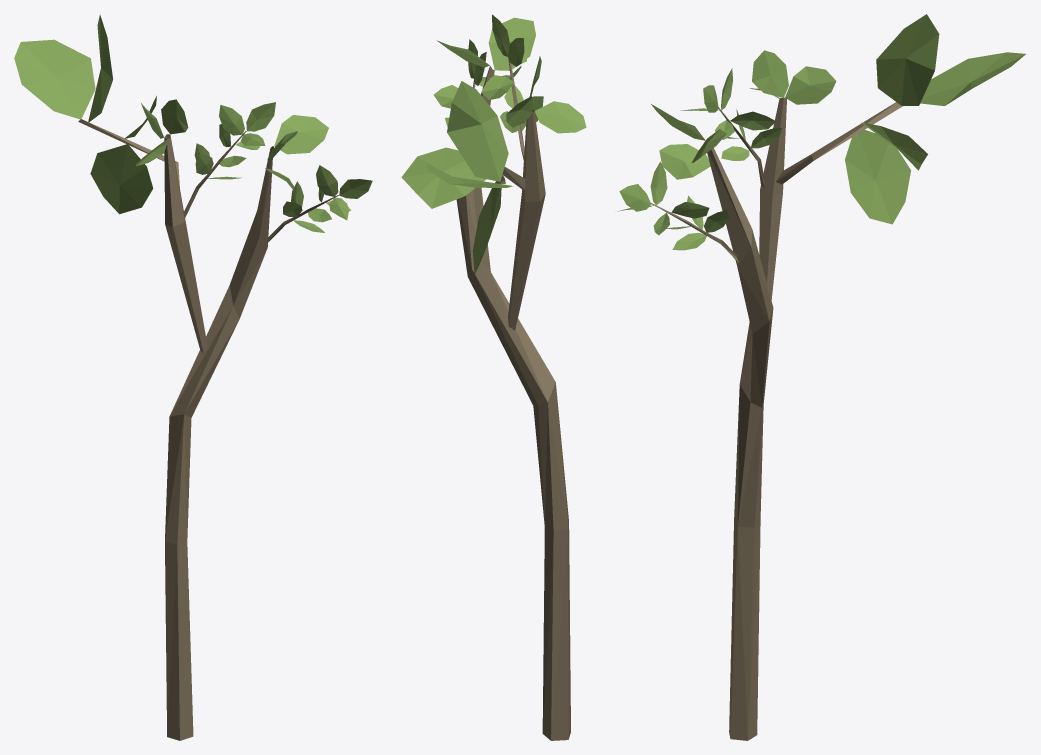
The model's file is Cherry_1_3.fbx.
3 views of the same model, side by side, from view 1: azimuth 30°, elevation 25°; view 2: azimuth 150°, elevation 25°; view 3: azimuth 270°, elevation 25° (orthographic). The views are drawn at different scales.
Parts seen in each view (by area): view 1: Cherry_1_3; view 2: Cherry_1_3; view 3: Cherry_1_3.
Boxes of the visible parts, x1,y1,x2,y2 form: Cherry_1_3: (14,14,372,740); Cherry_1_3: (401,14,586,740); Cherry_1_3: (617,14,1025,740).
Size of the model in its own units: 39.51 by 129 by 66.58.
